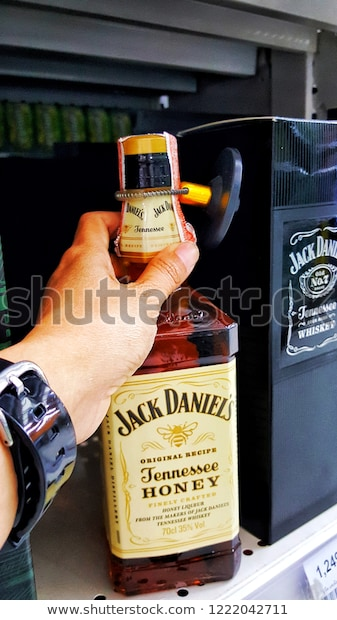Jack Daniel: (80, 122, 253, 601)
